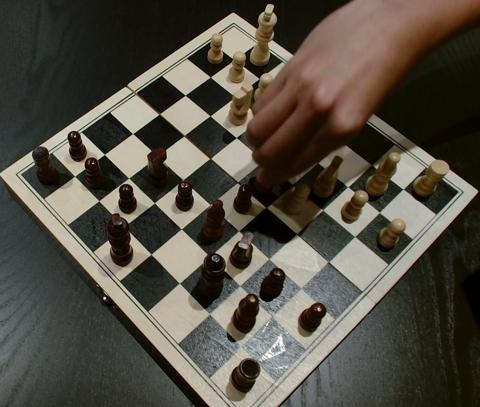xcorner: (322, 254, 335, 267), (374, 205, 387, 218), (342, 180, 355, 193), (366, 158, 379, 171), (203, 249, 216, 262), (232, 224, 245, 237), (286, 178, 299, 191), (311, 156, 324, 169), (203, 198, 216, 211), (257, 154, 270, 167), (282, 133, 295, 146), (117, 219, 130, 232), (147, 196, 160, 209), (229, 131, 242, 144), (254, 111, 267, 124), (149, 150, 162, 163), (176, 129, 189, 142), (252, 72, 265, 85), (66, 169, 79, 182), (124, 127, 137, 140), (202, 70, 215, 83), (236, 336, 248, 349), (295, 280, 307, 293), (349, 229, 361, 242), (398, 183, 411, 195), (290, 227, 303, 239), (317, 203, 329, 216), (173, 275, 186, 287), (336, 135, 348, 148), (145, 246, 157, 259), (174, 222, 187, 234), (307, 113, 319, 126), (175, 174, 188, 186), (203, 152, 215, 165), (279, 92, 291, 105), (91, 194, 104, 206), (121, 171, 133, 184), (228, 90, 240, 103), (151, 108, 164, 120), (177, 89, 190, 101), (266, 308, 278, 320), (204, 305, 216, 317), (234, 278, 246, 290), (263, 252, 275, 264), (260, 201, 272, 213), (231, 176, 243, 188), (203, 110, 215, 122), (96, 148, 108, 160), (227, 53, 239, 65)
